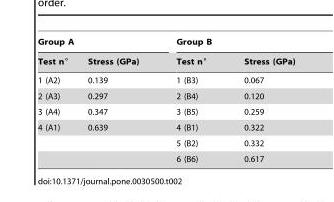table: (37, 37, 294, 163)
table column: (77, 37, 156, 163), (224, 37, 294, 163), (156, 37, 224, 163), (37, 37, 77, 163)
table column header: (37, 37, 294, 71)
table row: (37, 50, 294, 71), (37, 71, 294, 87), (37, 87, 294, 103), (37, 103, 294, 119), (37, 119, 294, 135), (37, 135, 294, 150), (37, 37, 294, 50), (37, 150, 294, 163)
table spanning cell: (156, 37, 294, 50), (37, 119, 77, 163), (37, 37, 156, 50)
